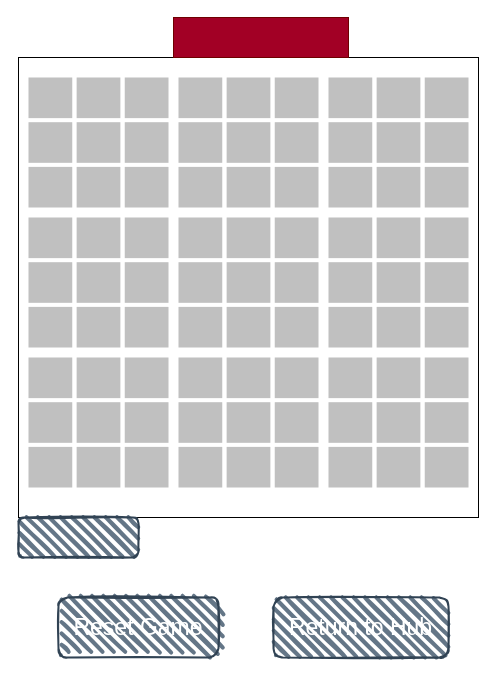
Image size: 496x676. Some labels were removed from this diagram. Each missing label, with the centre of its shape:
Info: the point at 78,537
Mine Sweeper: the point at 260,37
